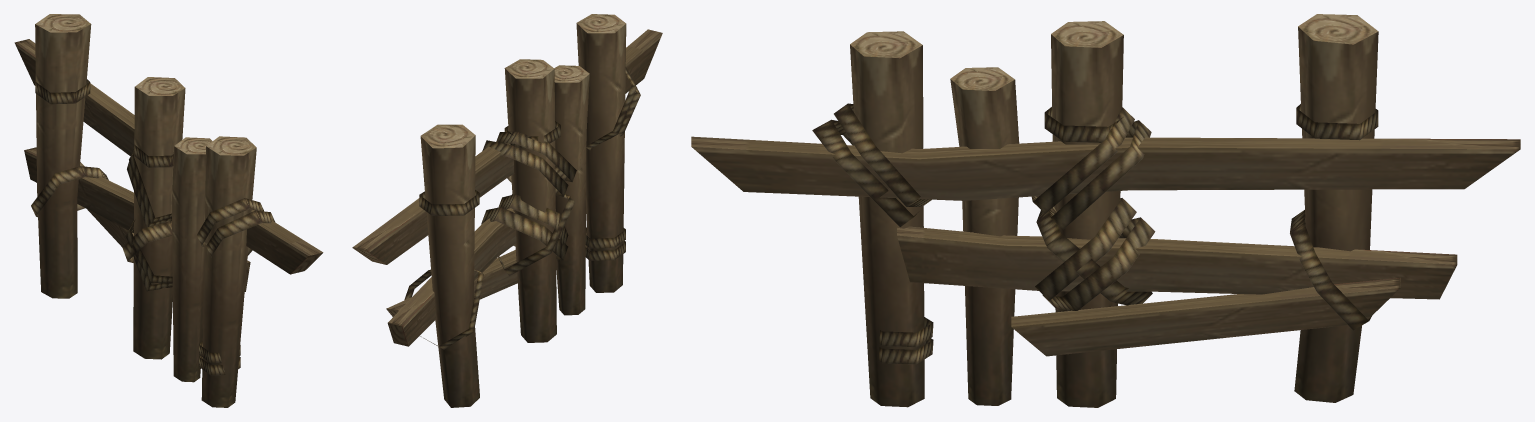
Rendered from fb_chisd_mujia_d.FBX.
3 renders of one model, left to right at view 1: azimuth 30°, elevation 25°; view 2: azimuth 150°, elevation 25°; view 3: azimuth 270°, elevation 25°, orthographic. The views are drawn at different scales.
Parts seen in each view (by area): view 1: fb_chisd_mujia_d; view 2: fb_chisd_mujia_d; view 3: fb_chisd_mujia_d.
Boxes of the visible parts, left/top/right/bottom form: fb_chisd_mujia_d: left=14, top=14, right=323, bottom=407; fb_chisd_mujia_d: left=352, top=14, right=662, bottom=407; fb_chisd_mujia_d: left=691, top=14, right=1520, bottom=407.
Bounding box in the file's own units: 51.19 × 190 × 382.
